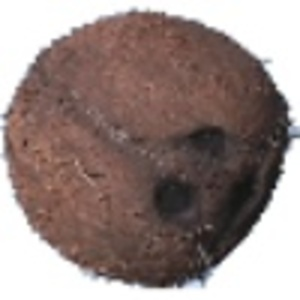coco: (1, 7, 300, 290)
